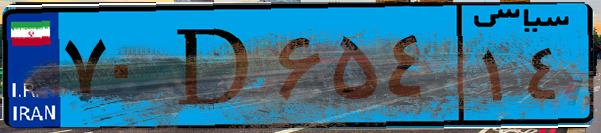0: (110, 28, 158, 98)
1: (475, 38, 525, 113)
4: (385, 28, 445, 110), (525, 38, 570, 115)
5: (330, 28, 385, 110)
6: (270, 28, 330, 110)
7: (57, 26, 110, 100)
D: (158, 12, 270, 120)
